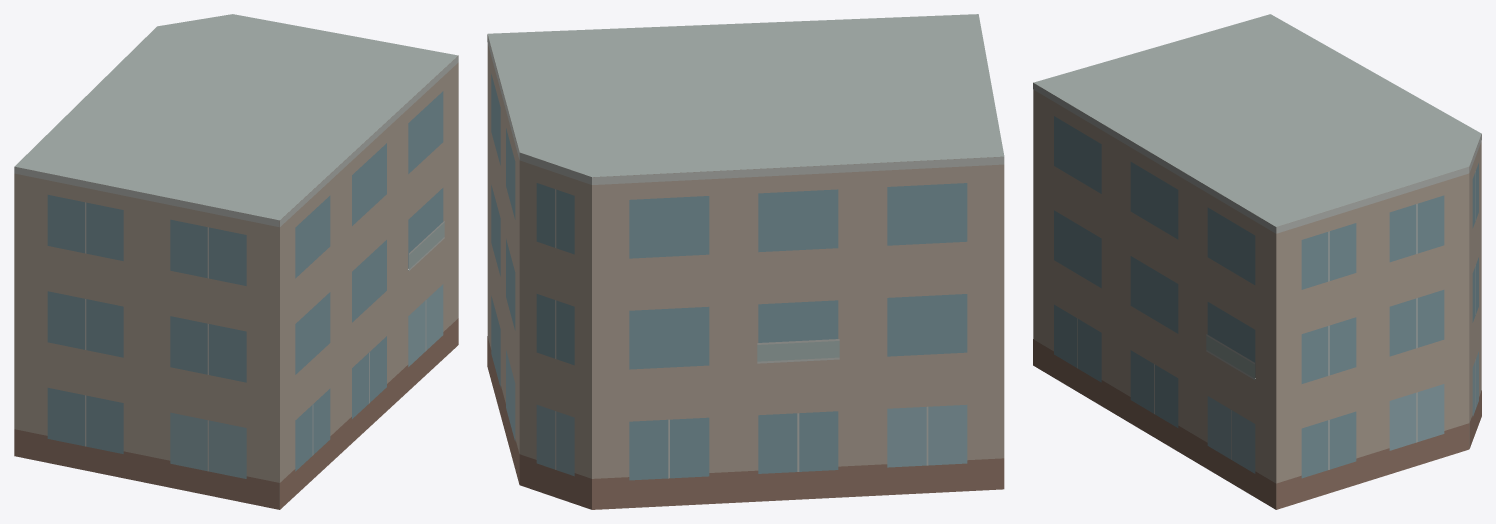
The model's file is survey-upis-32526482.glb.
The picture shows the model from 3 angles, left to right: view 1: azimuth 30°, elevation 25°; view 2: azimuth 150°, elevation 25°; view 3: azimuth 270°, elevation 25°; orthographic projection. The views are drawn at different scales.
Visible parts, largest first — view 1: survey-upis-32526482.tmp; view 2: survey-upis-32526482.tmp; view 3: survey-upis-32526482.tmp.
Boxes of the visible parts, left/top/right/bottom form: survey-upis-32526482.tmp: left=14, top=14, right=458, bottom=509; survey-upis-32526482.tmp: left=487, top=14, right=1004, bottom=509; survey-upis-32526482.tmp: left=1033, top=14, right=1481, bottom=509.
Size of the model in its own units: 16.49 by 10.2 by 14.67.
